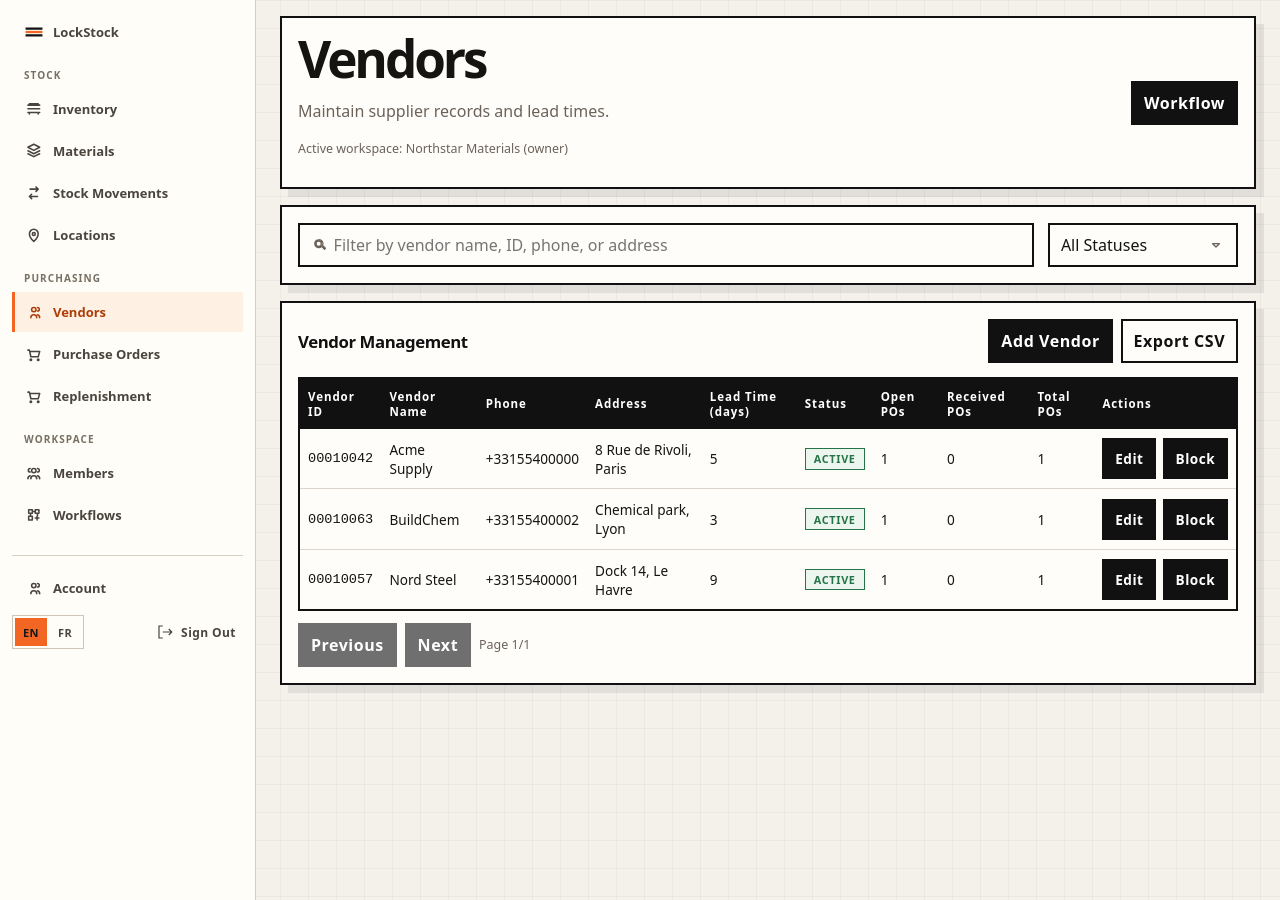
Test: catalog dialogs in the complete workbench › renders one vendor toolbar and opens its create dialog
Click the button "Add Vendor": [1051, 341] box [988,319,1113,363]
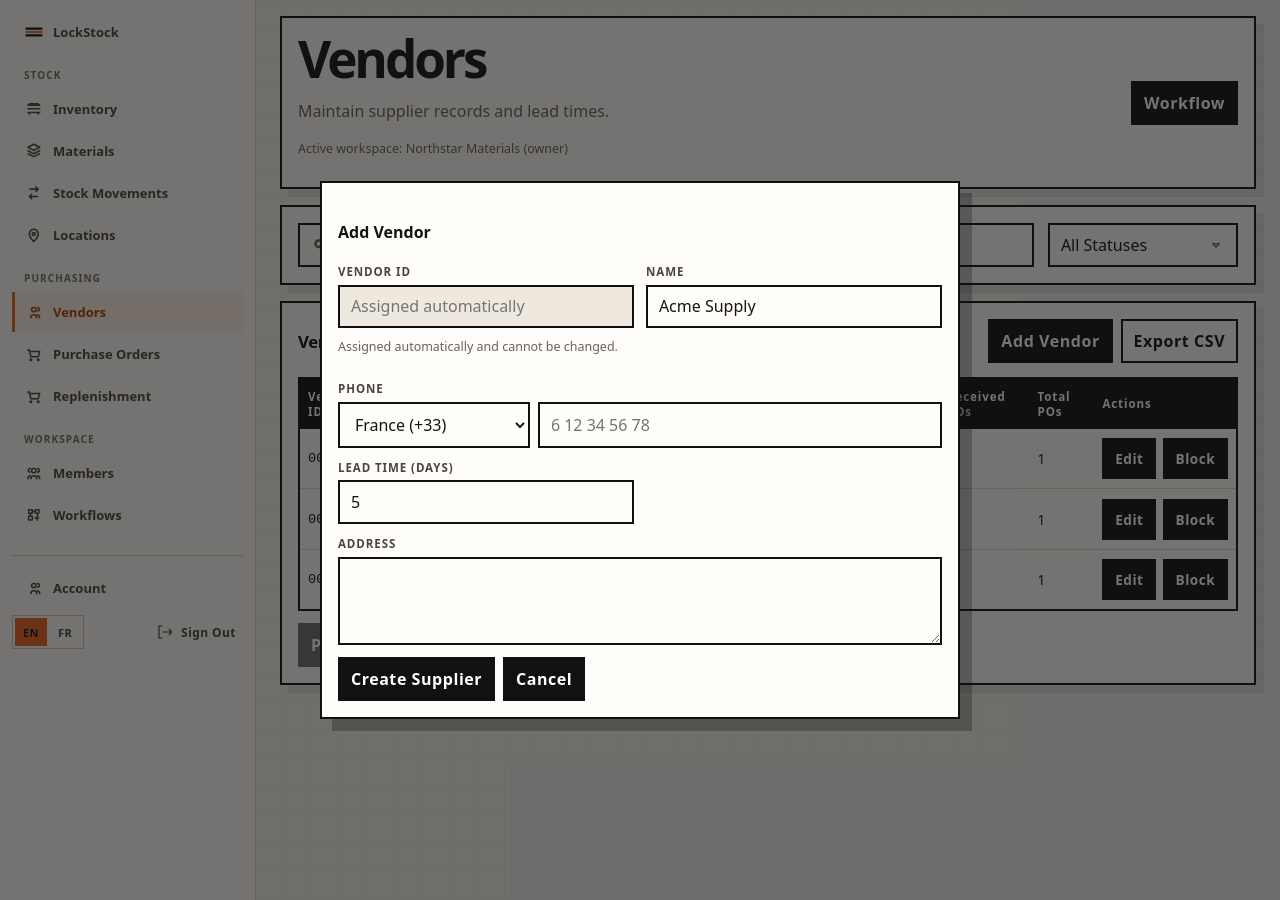
Expected: the dialog "Add Vendor" is shown
